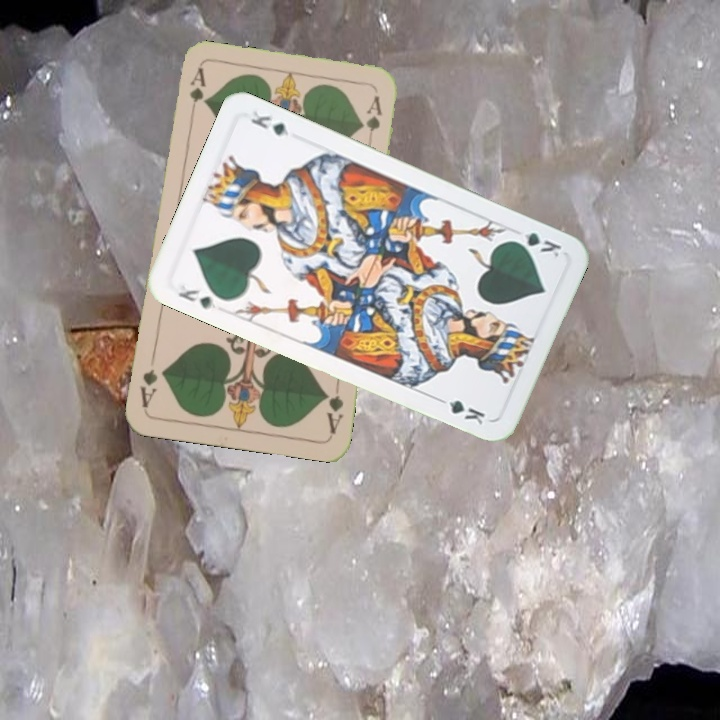GA: (321, 377, 346, 437), (185, 64, 207, 123)
GK: (506, 228, 564, 260), (174, 280, 219, 312)
